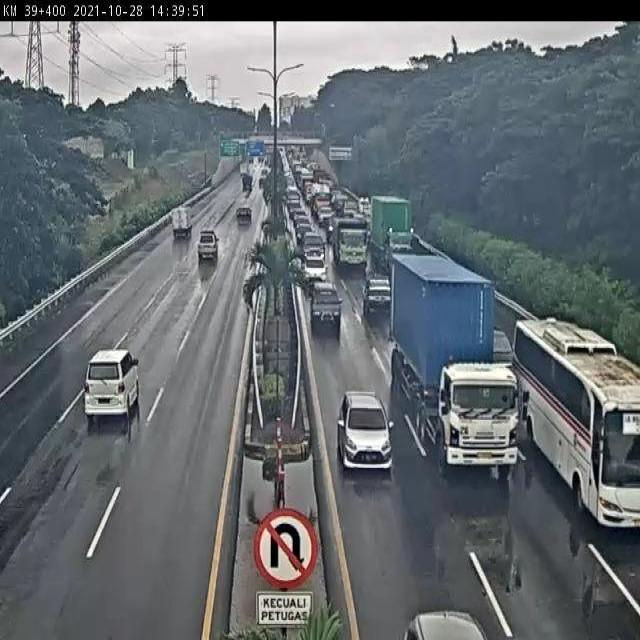ARABA: (336, 394, 394, 474), (84, 349, 140, 422), (311, 280, 344, 327), (486, 324, 516, 372), (362, 275, 393, 312), (197, 228, 220, 261), (301, 231, 326, 261), (302, 255, 327, 281), (295, 226, 314, 246)
KAMYONET: (172, 205, 193, 238)
OTOBUS: (515, 316, 640, 525)
TIR: (392, 254, 519, 474), (369, 193, 411, 263), (330, 213, 367, 267)
